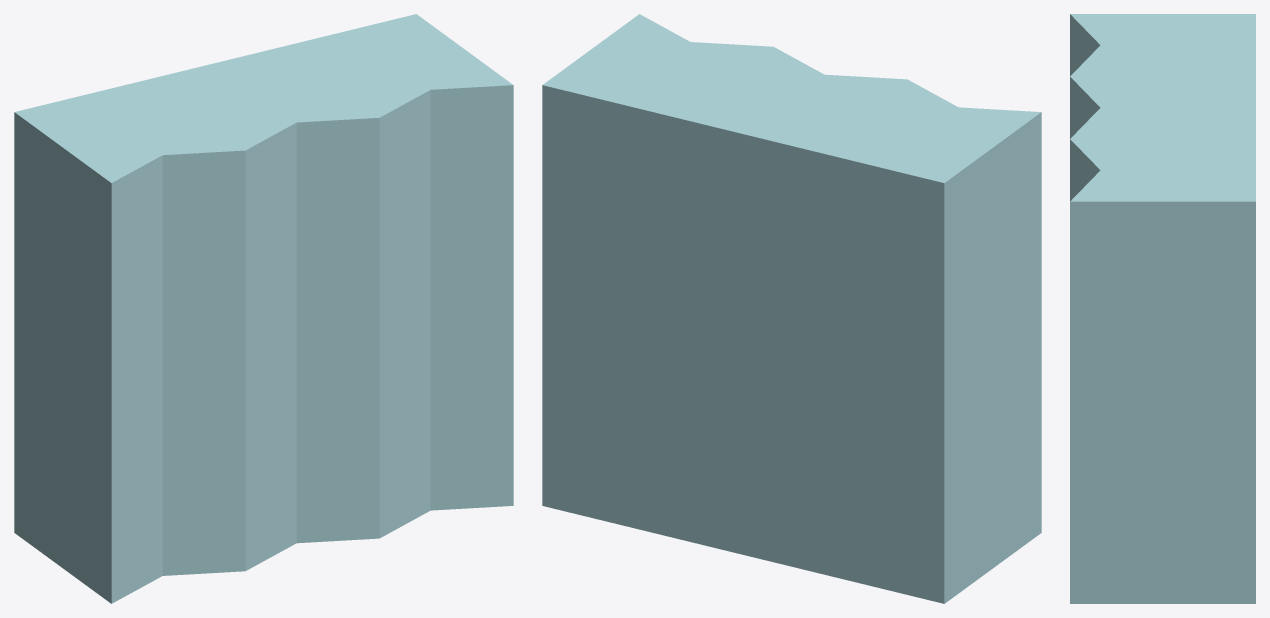
The model's file is cliff_large_stone.fbx.
3 renders of one model, left to right at view 1: azimuth 30°, elevation 25°; view 2: azimuth 150°, elevation 25°; view 3: azimuth 270°, elevation 25°, orthographic. The views are drawn at different scales.
Visible parts, largest first — view 1: cliff_large_stone; view 2: cliff_large_stone; view 3: cliff_large_stone.
Part boxes in pixels (x1,y1,x2,y2): cliff_large_stone: (14,14,513,603); cliff_large_stone: (542,14,1041,603); cliff_large_stone: (1070,14,1255,603).
Size of the model in its own units: 10 by 10 by 4.19.
